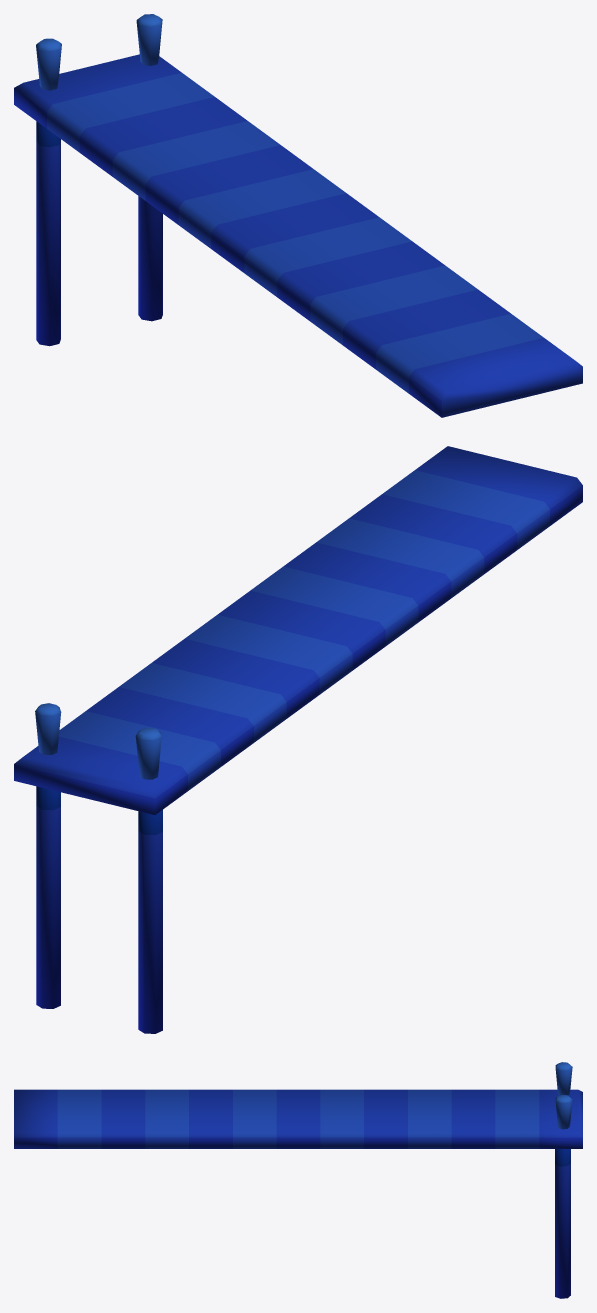
The model's file is Ponton.fbx.
3 renders of one model, top to bottom at view 1: azimuth 30°, elevation 25°; view 2: azimuth 150°, elevation 25°; view 3: azimuth 270°, elevation 25°, orthographic. The views are drawn at different scales.
Parts seen in each view (by area): view 1: Ponton; view 2: Ponton; view 3: Ponton.
Part boxes in pixels (left/top/right/bottom): Ponton: left=14, top=14, right=582, bottom=417; Ponton: left=14, top=446, right=582, bottom=1033; Ponton: left=14, top=1062, right=582, bottom=1298.
Bounding box in the file's own units: 200 × 403 × 1050.
